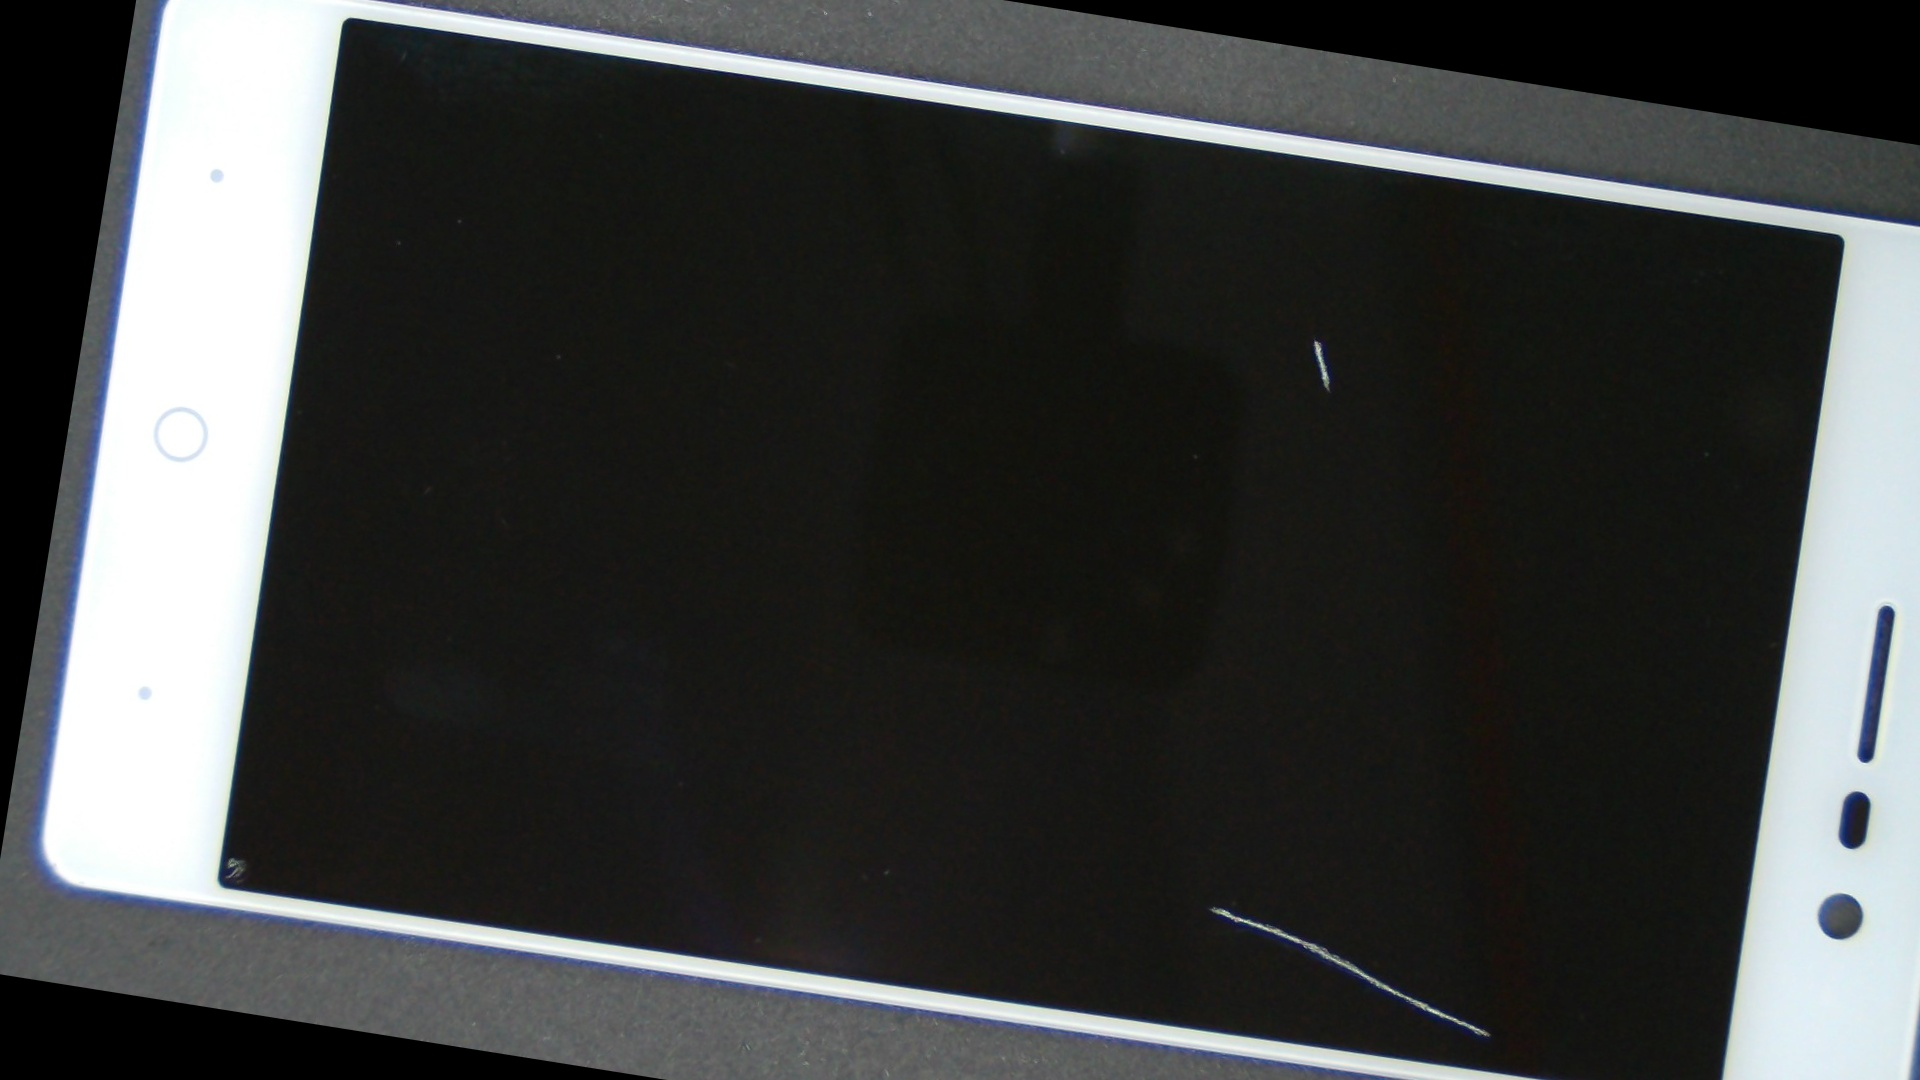oil: (578, 386, 1875, 1080), (692, 102, 1920, 576), (100, 361, 434, 1027)
